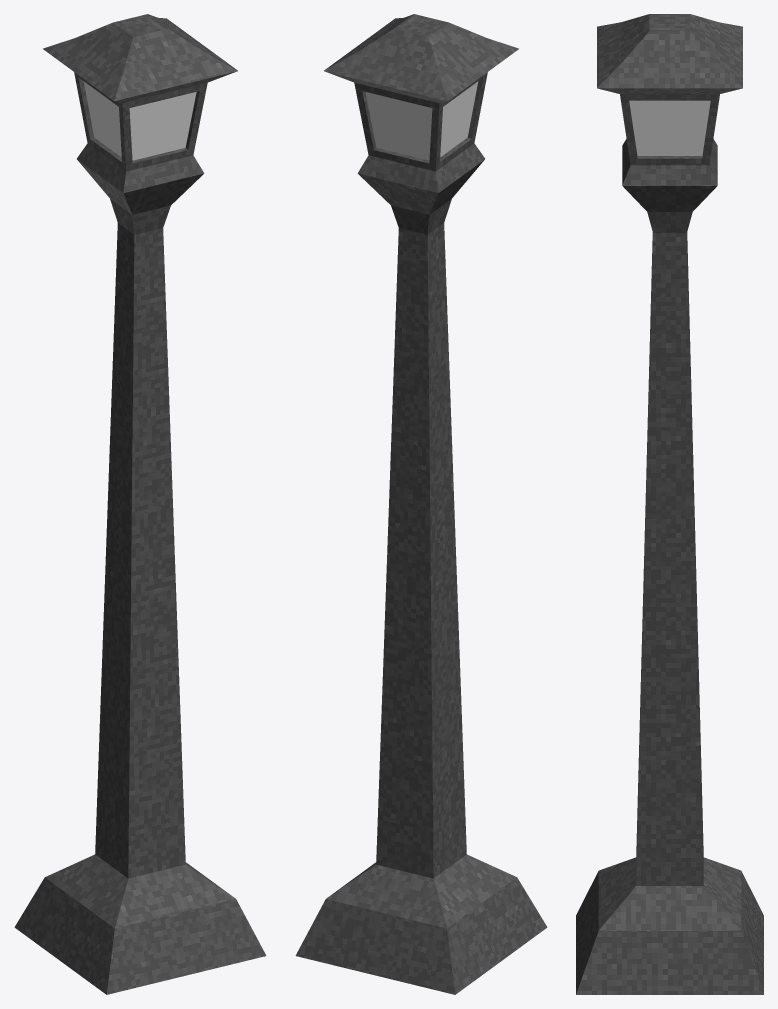
Rendered from Street lamp.fbx.
3 renders of one model, left to right at view 1: azimuth 30°, elevation 25°; view 2: azimuth 150°, elevation 25°; view 3: azimuth 270°, elevation 25°, orthographic.
Parts seen in each view (by area): view 1: Cube.005; view 2: Cube.005; view 3: Cube.005.
Boxes of the visible parts, x1,y1,x2,y2 form: Cube.005: (14, 14, 266, 994); Cube.005: (295, 14, 547, 994); Cube.005: (576, 14, 763, 994).
Bounding box in the file's own units: 40.07 × 219 × 40.07.
